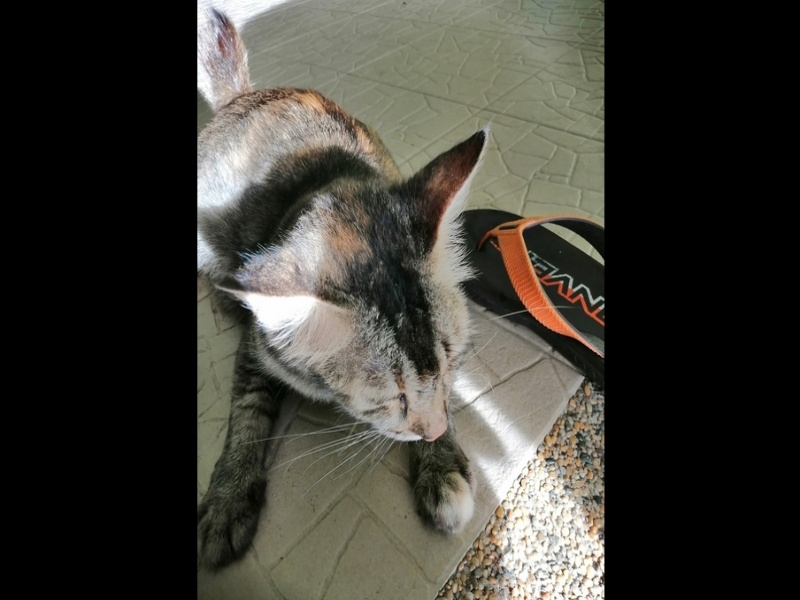cat: (200, 2, 482, 576)
